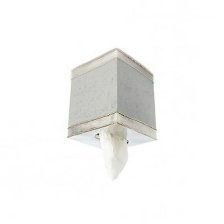tissue: (91, 128, 134, 187)
